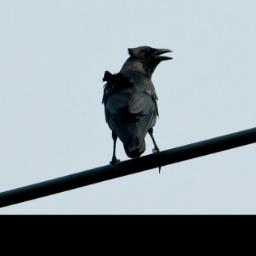Crow: (102, 42, 174, 176)
